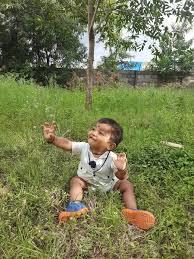Human: (38, 109, 160, 237)
